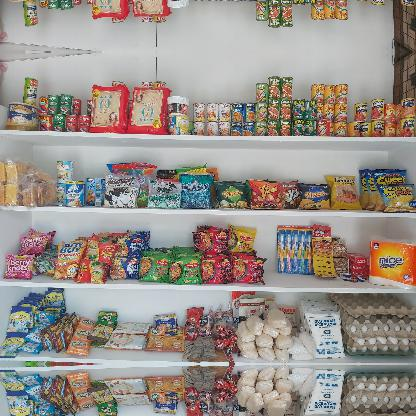Lady-s-Choice: (5, 102, 38, 130)
